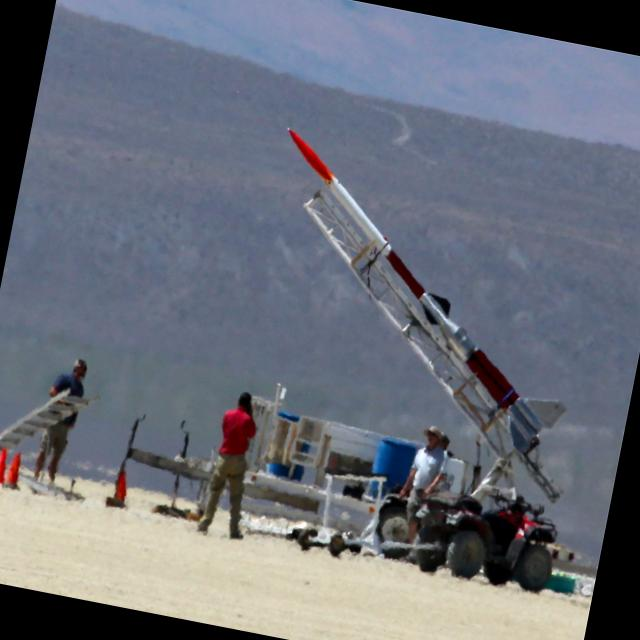rocket: (219, 112, 621, 503)
